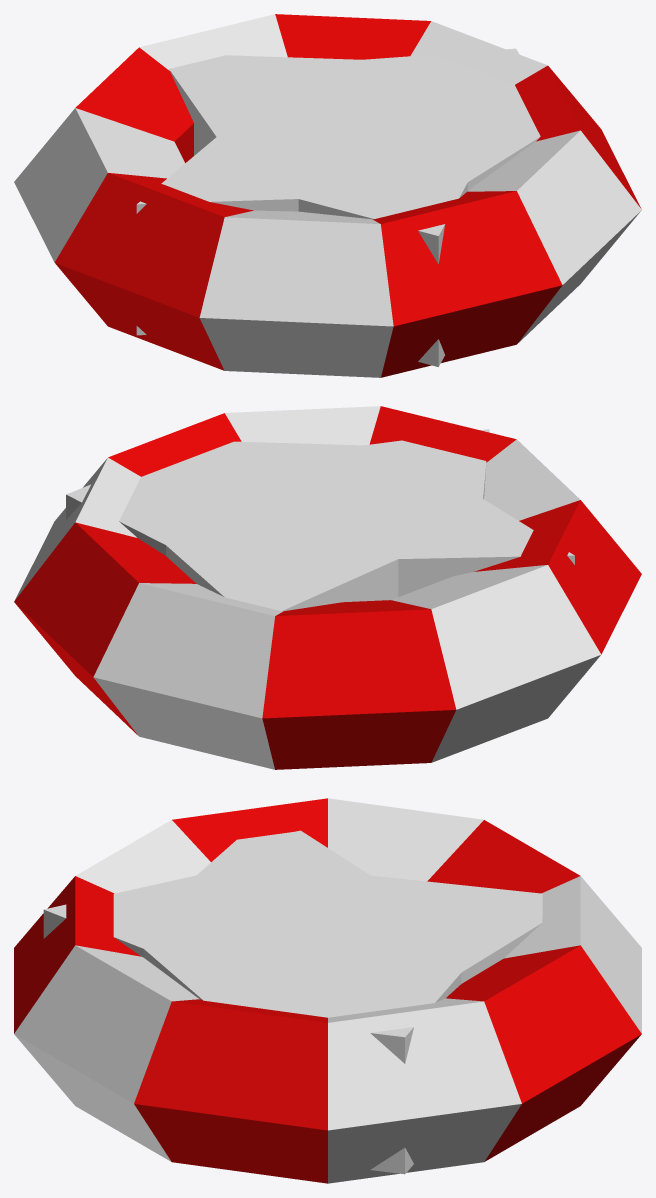
Rendered from WaterPlatforms.fbx.
3 views of the same model, one above another, from view 1: azimuth 30°, elevation 25°; view 2: azimuth 150°, elevation 25°; view 3: azimuth 270°, elevation 25° (orthographic). The views are drawn at different scales.
Visible parts, largest first — view 1: Buoy, IcePlatform; view 2: Buoy, IcePlatform; view 3: Buoy, IcePlatform.
Boxes of the visible parts, x1,y1,x2,y2 form: Buoy: [14, 14, 641, 377]; IcePlatform: [136, 48, 540, 366]; Buoy: [14, 406, 641, 769]; IcePlatform: [66, 429, 574, 611]; Buoy: [14, 798, 641, 1183]; IcePlatform: [43, 830, 542, 1174].
Bounding box in the file's own units: 262 × 70.38 × 249.
